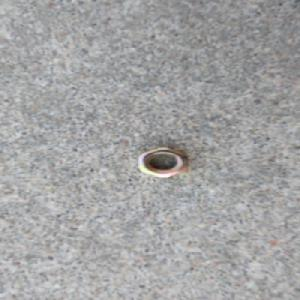Nut: (134, 145, 191, 179)
